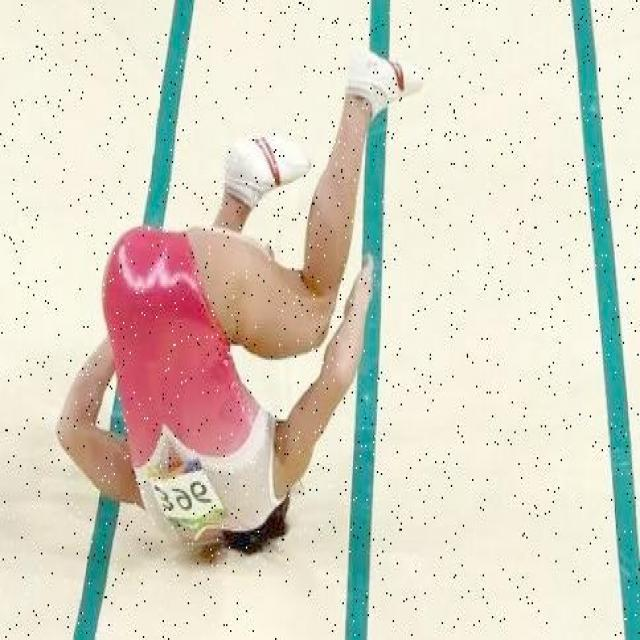fall: (70, 70, 402, 534)
